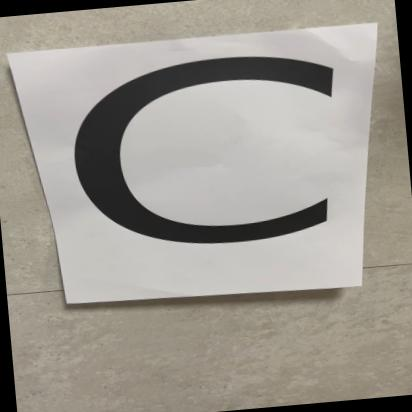seat: (37, 38, 372, 313)
